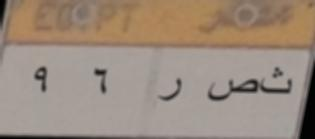6: (91, 65, 110, 97)
9: (29, 65, 51, 94)
raa: (156, 75, 184, 108)
saad: (206, 73, 258, 109)
thaa: (260, 63, 293, 102)
